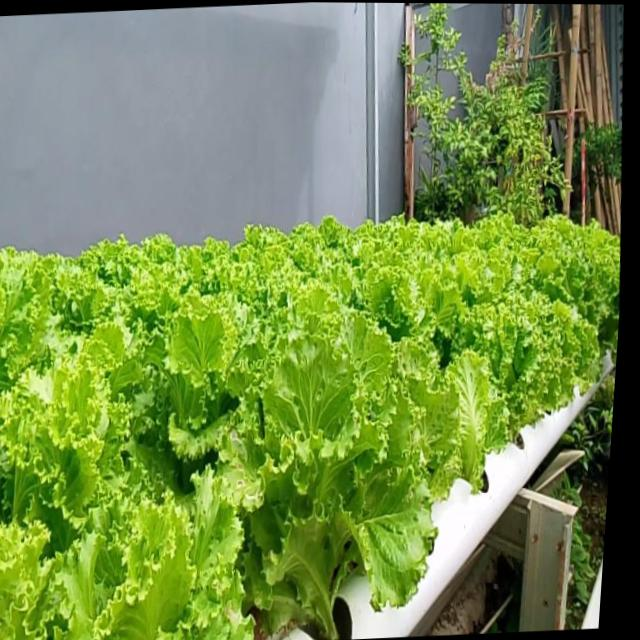Mature: (0, 203, 620, 640), (259, 326, 451, 620), (473, 247, 614, 462)
